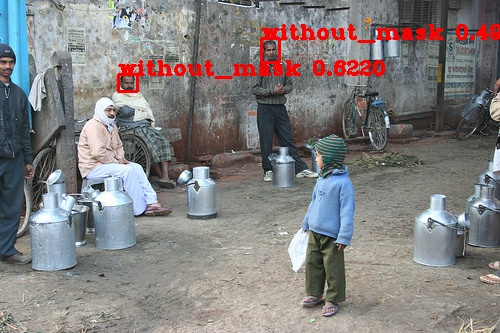without_mask: (1, 43, 21, 84), (95, 96, 117, 128), (118, 72, 140, 94), (260, 41, 282, 61)
